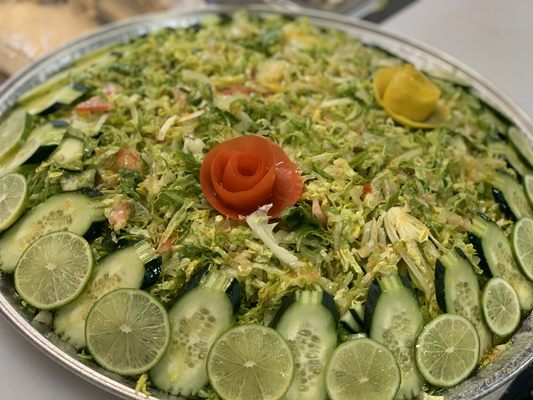sushi: (2, 4, 533, 400)
